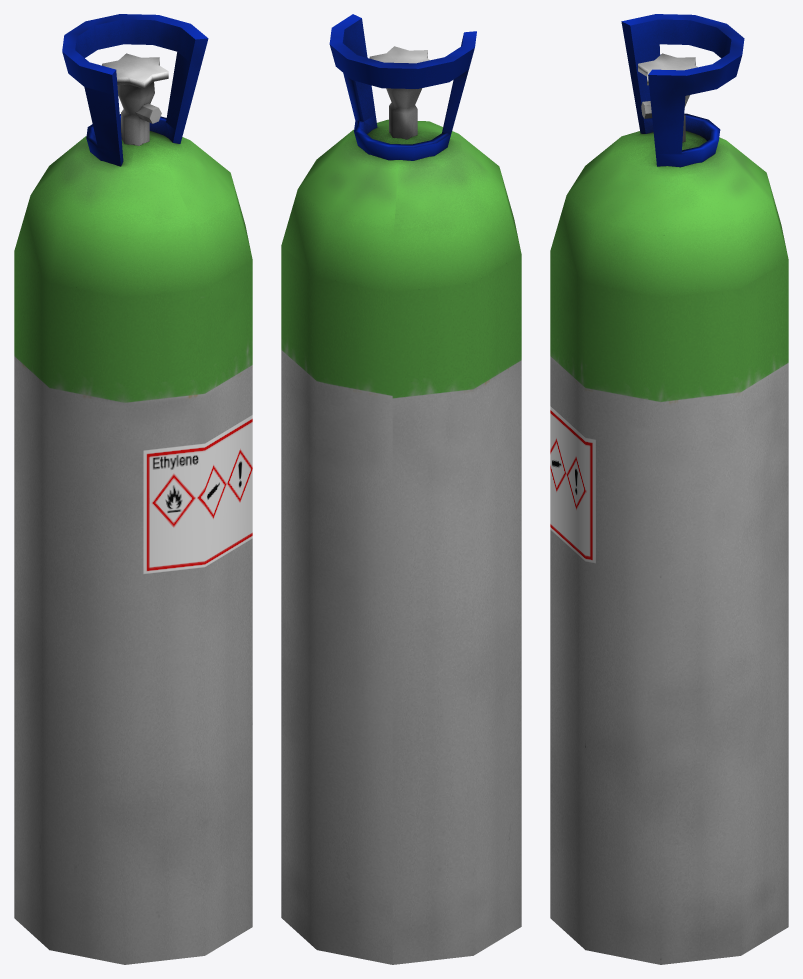
Rendered from ethylene_L.fbx.
The picture shows the model from 3 angles, left to right: view 1: azimuth 30°, elevation 25°; view 2: azimuth 150°, elevation 25°; view 3: azimuth 270°, elevation 25°; orthographic projection.
Parts seen in each view (by area): view 1: ethylene_L; view 2: ethylene_L; view 3: ethylene_L.
Part boxes in pixels (box(x1,y1,x2,y2)): ethylene_L: box(14, 14, 252, 964); ethylene_L: box(281, 14, 521, 964); ethylene_L: box(550, 14, 788, 964).
Bounding box in the file's own units: 0.1676 × 0.6744 × 0.1676.
1 material, 1 textured.
